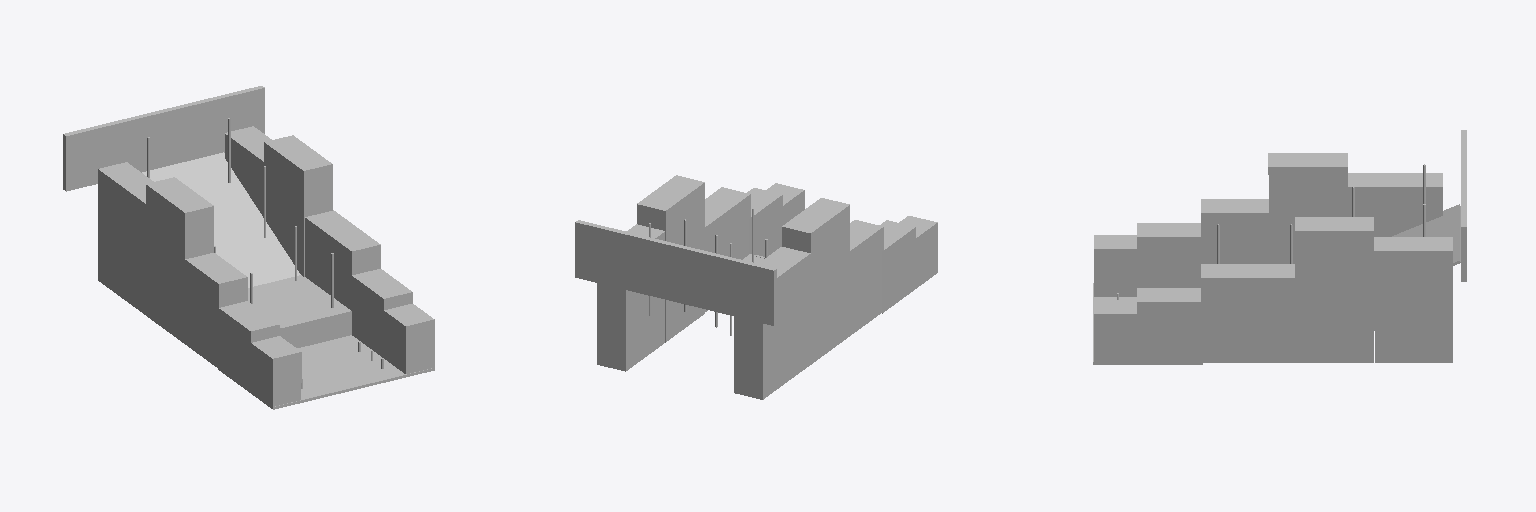
File: San_Fran_Blockout.obj
The picture shows the model from 3 angles: view 1: azimuth 30°, elevation 25°; view 2: azimuth 150°, elevation 25°; view 3: azimuth 270°, elevation 25°; orthographic projection.
Parts seen in each view (by area): view 1: pCube169; view 2: pCube169; view 3: pCube169.
Part boxes in pixels (left/top/right/bottom): pCube169: left=63, top=86, right=434, bottom=409; pCube169: left=575, top=175, right=937, bottom=399; pCube169: left=1093, top=130, right=1466, bottom=364.
Bounding box in the file's own units: 9604 × 7196 × 15644.